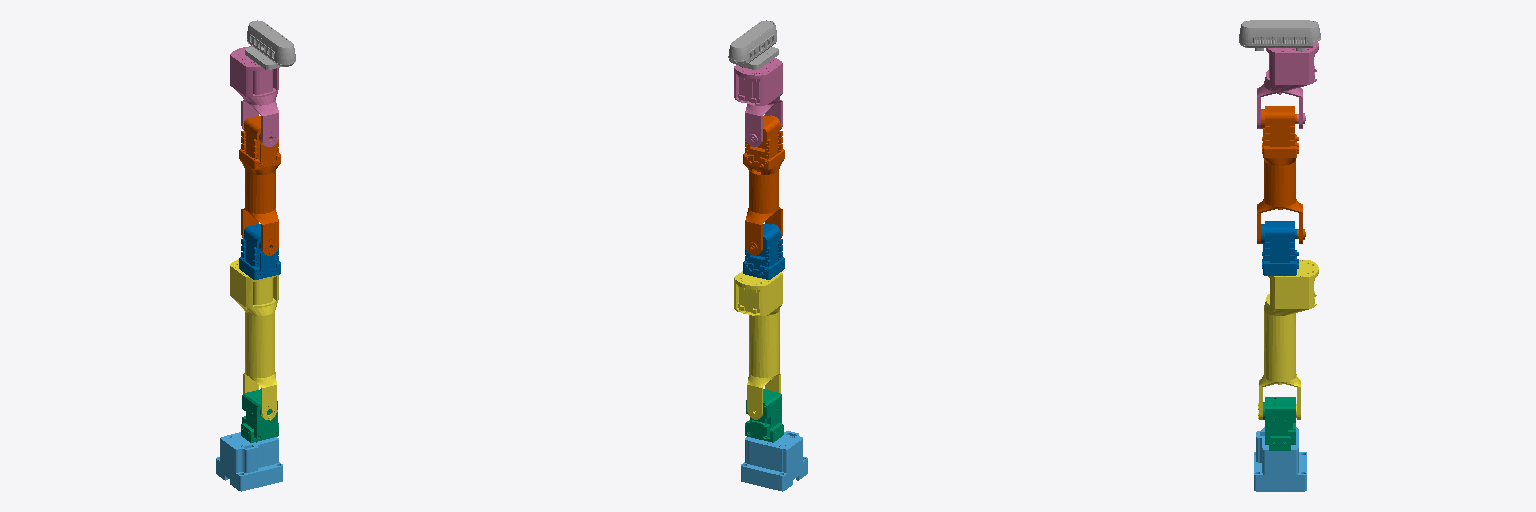
robot.urdf — six_dof_arm:
<?xml version="1.0" ?>
<robot name = "six_dof_arm">
    <meterial name="black">
        <color rgba="1.0 0.0 1.0 0.5"/>
    </meterial>

    <link name ="world"/>

    <joint name = "fixed_world" type = "fixed">
        <origin rpy="0 0 0" xyz="0 0 0"/>
        <parent link="world"/>
        <child link = "1"/>
    </joint>

    <link name="1">
        <visual>
            <origin rpy="0 0 0" xyz = "-0.54 -0.295 0"/>
            <geometry>
                <mesh filename = "1.stl" scale ="0.001 0.001 0.001"/>
            </geometry>
            <material name = "black"/>
        </visual>
        <inertia>
            <mass value = "3.0"/>
            <inertia ixx="1" ixy="0" ixz="0" iyy="1" iyz="0" izz="1"/>
        </inertia>
    </link>

    <joint name="joint1" type="revolute">
        <origin rpy="0 0 0" xyz="-0.485 -0.265 0.05"/>
        <parent link="1"/>
        <child link="2"/>
        <axis xyz="0 0 1"/>
    </joint>

    <link name="2">
        <visual>
            <origin rpy="0 0 -1.5708" xyz = "-0.02 0.153 -0.015"/>
            <geometry>
                <mesh filename = "2.stl" scale ="0.001 0.001 0.001"/>
            </geometry>
            <material name = "black"/>
        </visual>
        <inertia>
            <mass value = "3.0"/>
            <inertia ixx="1" ixy="0" ixz="0" iyy="1" iyz="0" izz="1"/>
        </inertia>
    </link>

    <joint name="joint2" type="revolute">
        <origin rpy="0 0 0" xyz="-0.0008 -0.023 0.04"/>
        <parent link="2"/>
        <child link="3"/>
        <axis xyz="0 1 0"/>
    </joint>

    <link name="3">
        <visual>
            <origin rpy="0 0 -1.5708" xyz = "-0.0222 0.276 -0.0551"/>
            <geometry>
                <mesh filename = "3.stl" scale ="0.001 0.001 0.001"/>
            </geometry>
            <material name = "black"/>
        </visual>
        <inertia>
            <mass value = "3.0"/>
            <inertia ixx="1" ixy="0" ixz="0" iyy="1" iyz="0" izz="1"/>
        </inertia>
    </link>

    <joint name="joint3" type="revolute">
        <origin rpy="0 0 0" xyz="0 0.022 0.172"/>
        <parent link="3"/>
        <child link="4"/>
        <axis xyz="0 0 1"/>
    </joint>

    <link name="4">
        <visual>
            <origin rpy="0 0 -1.5708" xyz = "-0.018 0.354 -0.227"/>
            <geometry>
                <mesh filename = "4.stl" scale ="0.001 0.001 0.001"/>
            </geometry>
            <material name = "black"/>
        </visual>
        <inertia>
            <mass value = "3.0"/>
            <inertia ixx="1" ixy="0" ixz="0" iyy="1" iyz="0" izz="1"/>
        </inertia>
    </link>

    <joint name="joint4" type="revolute">
        <origin rpy="0 0 0" xyz="0 -0.022 0.042"/>
        <parent link="4"/>
        <child link="5"/>
        <axis xyz="0 1 0"/>
    </joint>

    <link name="5">
        <visual>
            <origin rpy="0 0 -1.5708" xyz = "-0.018 0.476 -0.2695"/>
            <geometry>
                <mesh filename = "5.stl" scale ="0.001 0.001 0.001"/>
            </geometry>
            <material name = "black"/>
        </visual>
        <inertia>
            <mass value = "3.0"/>
            <inertia ixx="1" ixy="0" ixz="0" iyy="1" iyz="0" izz="1"/>
        </inertia>
    </link>

    <joint name="joint5" type="revolute">
        <origin rpy="0 0 0" xyz="0 0 0.14"/>
        <parent link="5"/>
        <child link="6"/>
        <axis xyz="0 1 0"/>
    </joint>

    <link name="6">
        <visual>
            <origin rpy="0 0 -1.5708" xyz = "-0.022 0.5759 -0.4095"/>
            <geometry>
                <mesh filename = "6.stl" scale ="0.001 0.001 0.001"/>
            </geometry>
            <material name = "black"/>
        </visual>
        <inertia>
            <mass value = "3.0"/>
            <inertia ixx="1" ixy="0" ixz="0" iyy="1" iyz="0" izz="1"/>
        </inertia>
    </link>

    <joint name="joint6" type="revolute">
        <origin rpy="0 0 0" xyz="0 0.02 0.095"/>
        <parent link="6"/>
        <child link="7"/>
        <axis xyz="0 0 1"/>
    </joint>

    <link name="7">
        <visual>
            <origin rpy="0 0 -1.5708" xyz = "-0.0064 0.656 -0.5045"/>
            <geometry>
                <mesh filename = "7.stl" scale ="0.001 0.001 0.001"/>
            </geometry>
            <material name = "black"/>
        </visual>
        <inertia>
            <mass value = "3.0"/>
            <inertia ixx="1" ixy="0" ixz="0" iyy="1" iyz="0" izz="1"/>
        </inertia>
    </link>

</robot>

--- Facts derived from the render (not from the file) ---
3 views of the same robot in one strip: view 1: azimuth 30°, elevation 25°; view 2: azimuth 150°, elevation 25°; view 3: azimuth 270°, elevation 25° (orthographic).
Model six_dof_arm with 8 links and 7 joints (6 revolute, 1 fixed), rooted at world, posed all joints at 0.
Links seen in each view (by area): view 1: 3, 5, 1, 6, 7, 4, 2; view 2: 3, 5, 1, 6, 7, 4, 2; view 3: 3, 5, 6, 1, 7, 4, 2.
Link boxes in pixels (box(x1,y1,x2,y2)): 3: box(230, 259, 278, 420); 5: box(239, 116, 280, 255); 1: box(216, 432, 282, 491); 6: box(230, 46, 278, 146); 7: box(245, 20, 295, 69); 4: box(239, 224, 280, 279); 2: box(241, 389, 278, 442); 3: box(734, 271, 782, 419); 5: box(743, 115, 784, 255); 1: box(741, 431, 807, 491); 6: box(734, 58, 782, 146); 7: box(728, 20, 778, 69); 4: box(743, 224, 784, 279); 2: box(745, 389, 783, 442); 3: box(1258, 260, 1318, 419); 5: box(1257, 106, 1305, 243); 6: box(1257, 42, 1318, 128); 1: box(1254, 427, 1306, 491); 7: box(1239, 20, 1320, 50); 4: box(1261, 221, 1298, 275); 2: box(1263, 397, 1295, 450).
Size in the robot's own frame: 0.0709 by 0.0898 by 0.5641 metres.
7 mesh visuals loaded from 7 distinct referenced files (7 binary STL).